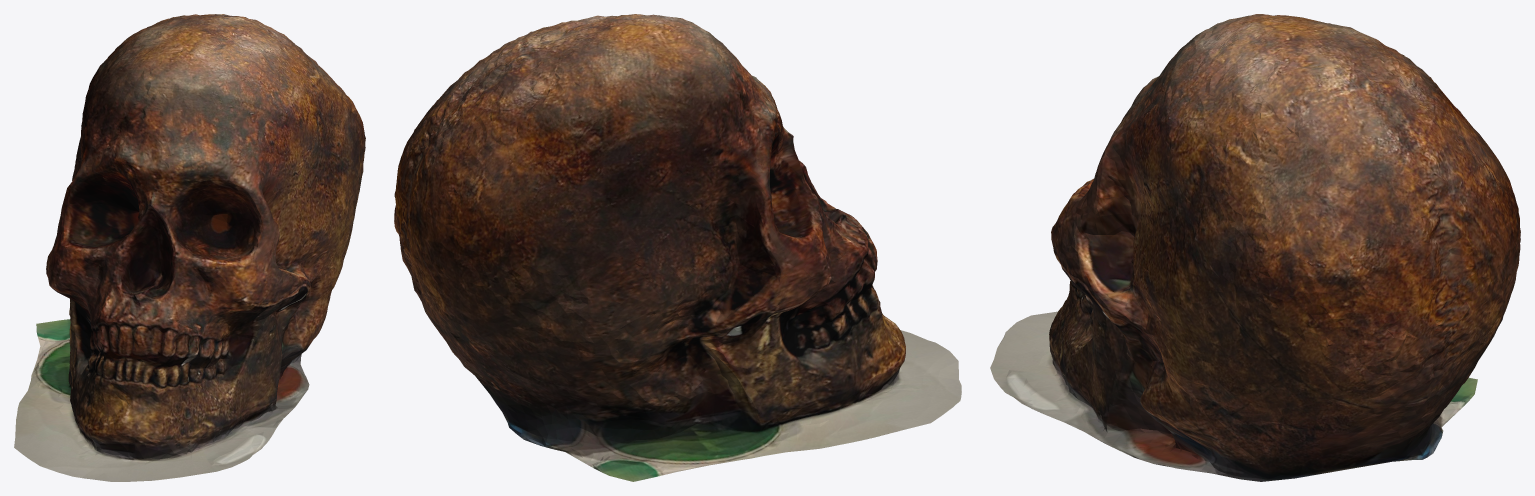
3 renders of one model, left to right at view 1: azimuth 30°, elevation 25°; view 2: azimuth 150°, elevation 25°; view 3: azimuth 270°, elevation 25°, orthographic. The views are drawn at different scales.
Size of the model in its own units: 0.3779 by 0.3086 by 0.3541.
Materials: 1 (1 with a texture image).
